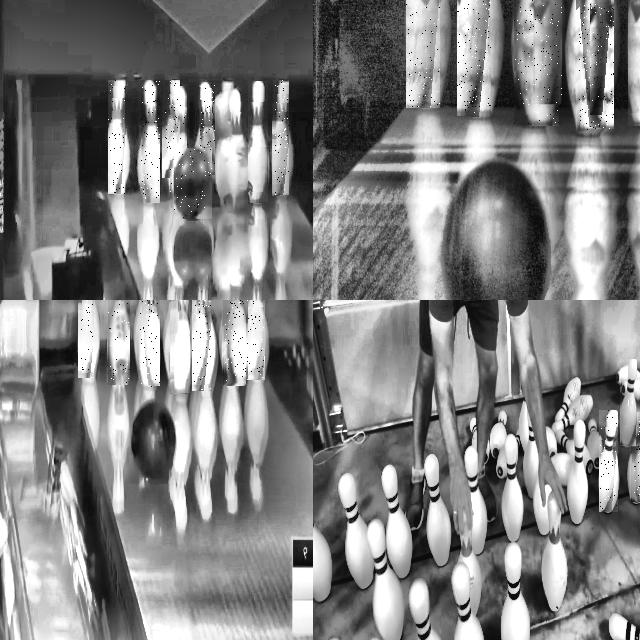bowling-ball: (442, 160, 549, 300), (174, 148, 211, 218)
bowling-pins: (514, 0, 559, 124), (366, 520, 403, 640), (579, 0, 613, 130), (338, 474, 373, 589), (457, 0, 491, 113), (406, 0, 440, 107), (382, 465, 412, 578), (541, 492, 567, 611), (424, 454, 450, 566), (501, 542, 530, 640), (464, 445, 487, 554), (451, 562, 483, 640), (248, 81, 268, 201), (501, 434, 523, 541), (590, 0, 610, 115), (141, 80, 160, 200), (567, 419, 588, 524), (170, 87, 187, 206), (408, 579, 440, 640), (108, 80, 125, 194), (108, 300, 130, 384), (600, 410, 618, 511), (546, 0, 562, 104), (225, 300, 245, 383), (192, 300, 210, 390), (275, 81, 289, 195), (173, 300, 189, 393), (143, 300, 160, 387), (621, 359, 637, 445), (247, 300, 264, 379), (199, 82, 215, 165), (523, 415, 539, 498), (165, 81, 180, 154), (81, 300, 93, 378), (633, 405, 640, 502)
